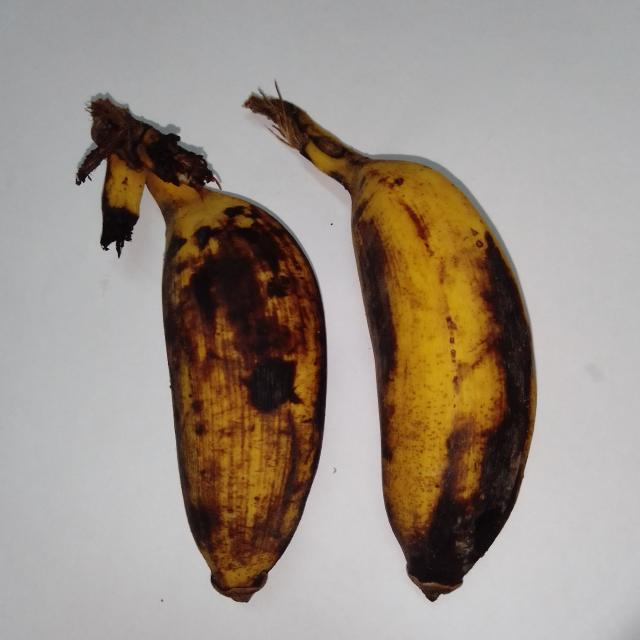banana: (245, 92, 535, 600), (78, 101, 326, 601)
